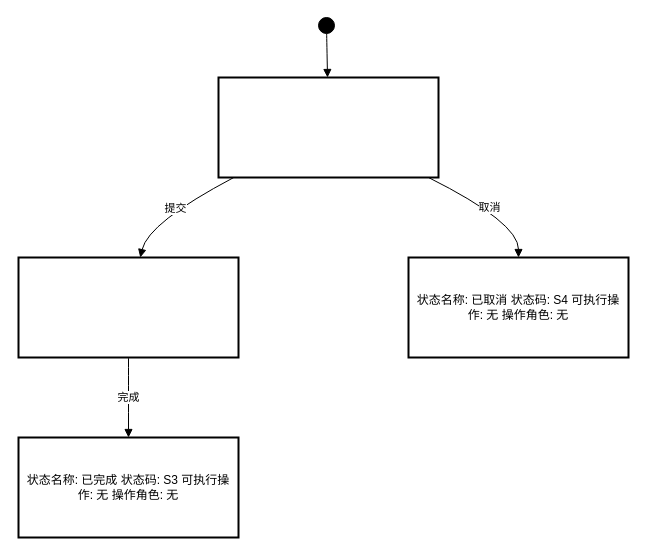
The diagram is 646 pixels wide and 556 high, and some of its shapes have lost their labels. Here are the shapes that lost their labels. From the top down, the centre of each, then its label:
(328,127): 状态名称: 初始状态 状态码: S1 可执行操作: 提交/取消 操作角色: 用户
(128,307): 状态名称: 处理中 状态码: S2 可执行操作: 审核/完成 操作角色: 管理员
